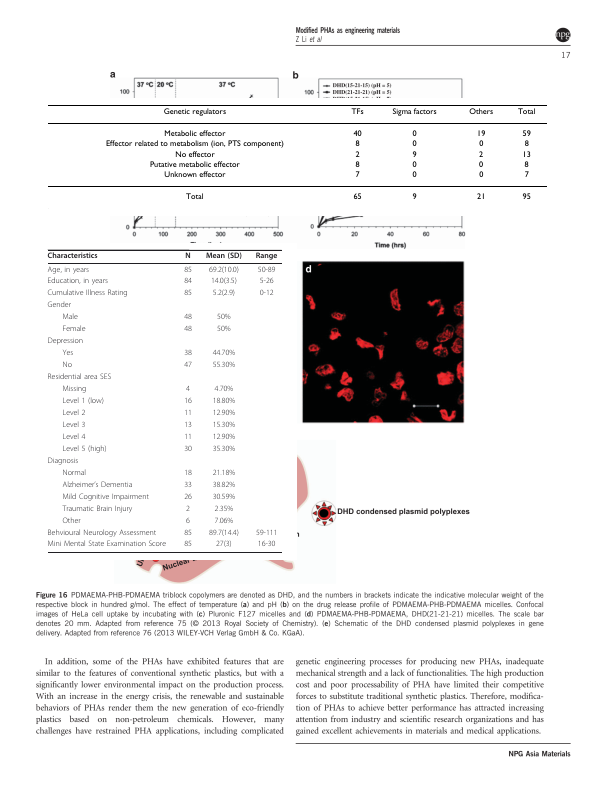borderless: (47, 248, 282, 552), (46, 103, 548, 210)
cell: (104, 140, 284, 150), (47, 540, 167, 550), (47, 528, 157, 538), (148, 160, 240, 170), (61, 492, 150, 502), (47, 289, 129, 299), (61, 480, 133, 490), (61, 504, 133, 514), (162, 107, 227, 117), (47, 277, 109, 287), (47, 373, 112, 382), (163, 130, 226, 139), (163, 171, 226, 180), (391, 107, 437, 117), (47, 252, 98, 261), (47, 265, 90, 275), (61, 445, 108, 454), (174, 150, 215, 160), (61, 397, 105, 406), (205, 252, 243, 261), (47, 337, 84, 346), (208, 265, 240, 275), (208, 528, 240, 538), (47, 457, 79, 466), (210, 277, 238, 287), (468, 107, 494, 117), (61, 468, 87, 478), (47, 301, 72, 311), (212, 289, 236, 299), (212, 468, 236, 478), (212, 480, 236, 490), (212, 492, 236, 502), (61, 385, 87, 394), (255, 528, 278, 538), (61, 325, 86, 334), (61, 409, 86, 418), (61, 421, 86, 430), (61, 433, 86, 442), (212, 349, 236, 358), (212, 361, 236, 370), (212, 397, 236, 406), (212, 409, 236, 418), (212, 421, 236, 430), (212, 433, 236, 442), (212, 445, 236, 454), (213, 504, 234, 514), (61, 516, 82, 526), (213, 516, 234, 526), (255, 252, 278, 261), (516, 107, 536, 117), (185, 193, 204, 203), (257, 265, 276, 275), (257, 540, 276, 550), (213, 385, 234, 394), (61, 313, 79, 323), (215, 540, 233, 550), (259, 277, 274, 287), (259, 289, 274, 299), (216, 313, 231, 323), (350, 107, 364, 117), (216, 325, 231, 334), (61, 349, 74, 358), (61, 361, 73, 370), (521, 150, 531, 160), (352, 193, 362, 203), (476, 193, 486, 203), (521, 193, 531, 203), (183, 265, 193, 275), (183, 277, 193, 287), (183, 289, 193, 299), (183, 313, 193, 323), (183, 468, 193, 478), (183, 480, 193, 490), (183, 492, 193, 502), (183, 528, 193, 538), (183, 540, 193, 550), (352, 130, 362, 139), (476, 130, 486, 139), (521, 130, 531, 139), (183, 325, 193, 334), (183, 349, 193, 358), (183, 361, 193, 370), (183, 397, 193, 406), (183, 409, 193, 418), (183, 421, 193, 430), (183, 433, 193, 442), (183, 445, 193, 454), (184, 252, 192, 261), (354, 140, 360, 150), (411, 140, 417, 150), (478, 140, 484, 150), (523, 140, 529, 150), (354, 150, 360, 160), (411, 150, 417, 160), (478, 150, 484, 160), (354, 160, 360, 170), (411, 160, 417, 170), (478, 160, 484, 170), (523, 160, 529, 170), (411, 193, 417, 203), (185, 504, 191, 514), (185, 516, 191, 526), (411, 130, 417, 139), (354, 171, 360, 180), (411, 171, 417, 180), (478, 171, 484, 180), (523, 171, 529, 180), (185, 385, 191, 394)
